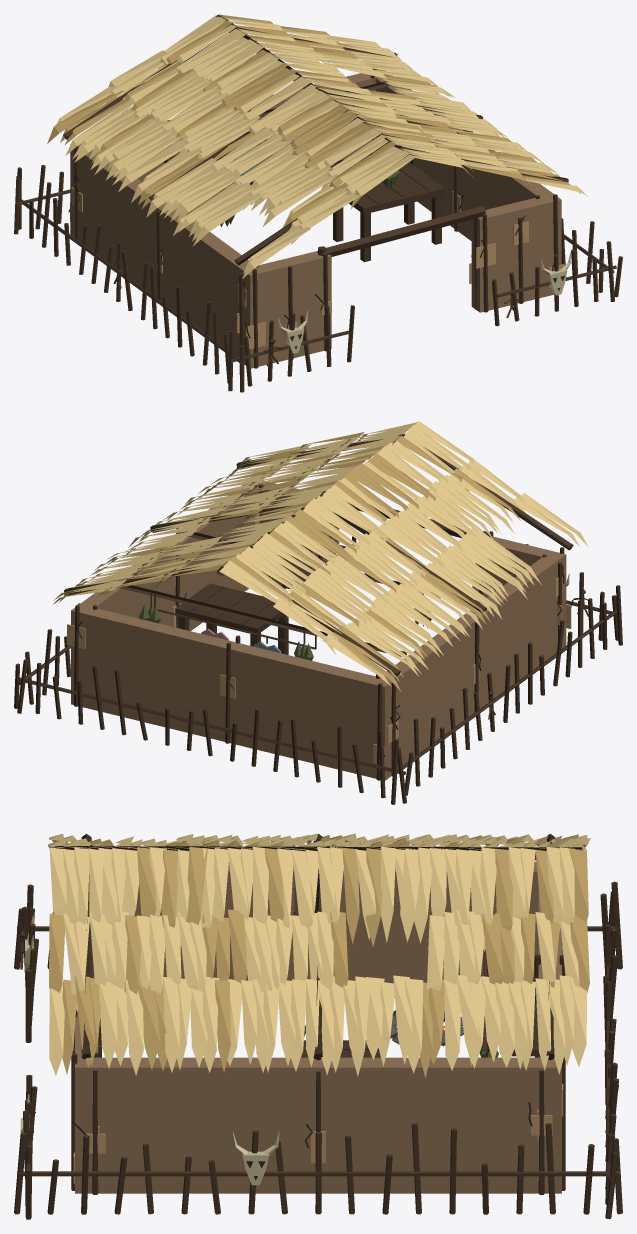
File: witch-hut.fbx
3 renders of one model, top to bottom at view 1: azimuth 30°, elevation 25°; view 2: azimuth 150°, elevation 25°; view 3: azimuth 270°, elevation 25°, orthographic. The views are drawn at different scales.
Parts seen in each view (by area): view 1: HutRoof, HutWalls, HutFence, HutInterior; view 2: HutRoof, HutWalls, HutFence, HutInterior; view 3: HutRoof, HutWalls, HutFence, HutInterior.
Part boxes in pixels (x1,y1,x2,y2): HutRoof: (47,14,587,278); HutWalls: (68,68,564,368); HutFence: (14,165,622,392); HutInterior: (164,92,445,262); HutRoof: (53,421,587,691); HutWalls: (67,480,573,780); HutFence: (14,536,622,804); HutInterior: (139,571,431,660); HutRoof: (48,833,590,1078); HutWalls: (71,861,565,1194); HutFence: (14,881,622,1219); HutInterior: (293,911,538,1057).
Size of the model in its own units: 10.62 by 4.66 by 10.5.
